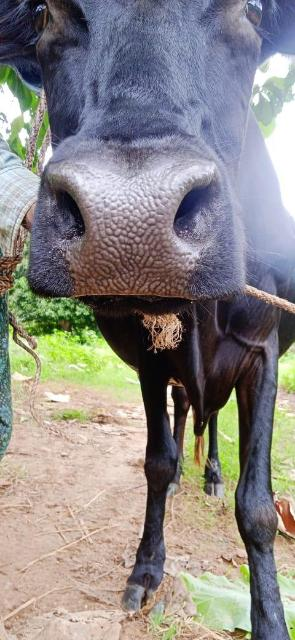Muzzle: (48, 164, 194, 298)
